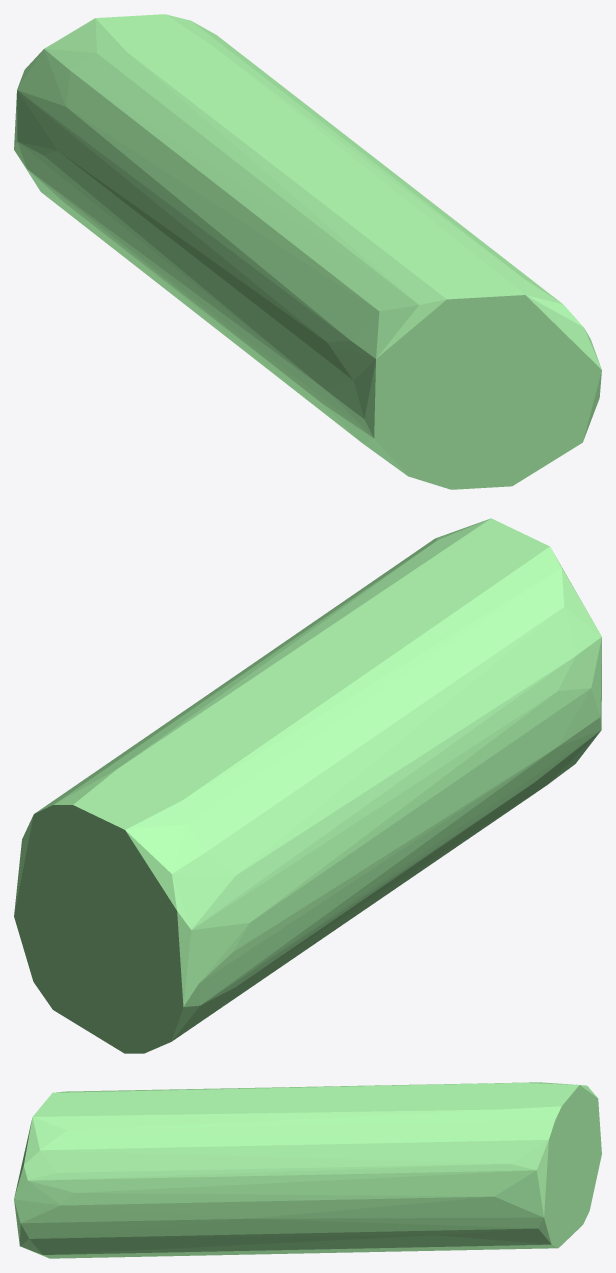
File: dvkr_robot_R_link_respondable_coll_3.dae
3 views of the same model, one above another, from view 1: azimuth 30°, elevation 25°; view 2: azimuth 150°, elevation 25°; view 3: azimuth 270°, elevation 25° (orthographic). The views are drawn at different scales.
Visible parts, largest first — view 1: Node_0000023514CD7BC0; view 2: Node_0000023514CD7BC0; view 3: Node_0000023514CD7BC0.
Part boxes in pixels (<box>): Node_0000023514CD7BC0: <box>14,14,601,489</box>; Node_0000023514CD7BC0: <box>14,518,601,1053</box>; Node_0000023514CD7BC0: <box>14,1082,601,1258</box>.
Size of the model in its own units: 0.1332 by 0.134 by 0.4685.
